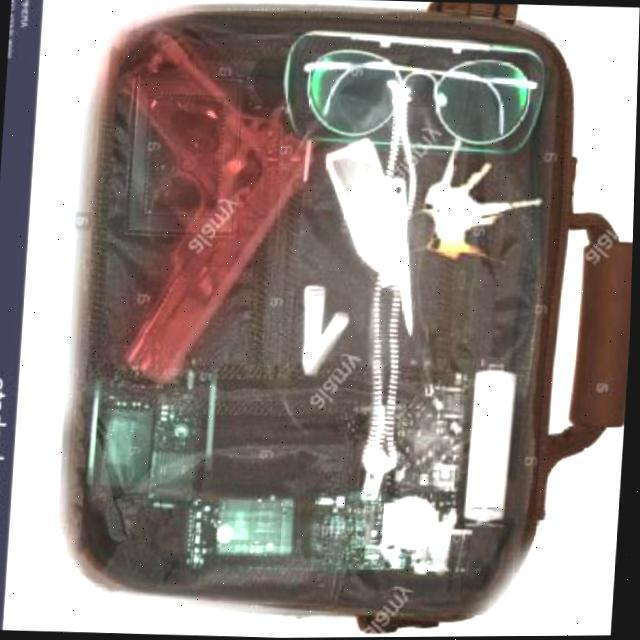gun: (98, 24, 322, 380)
